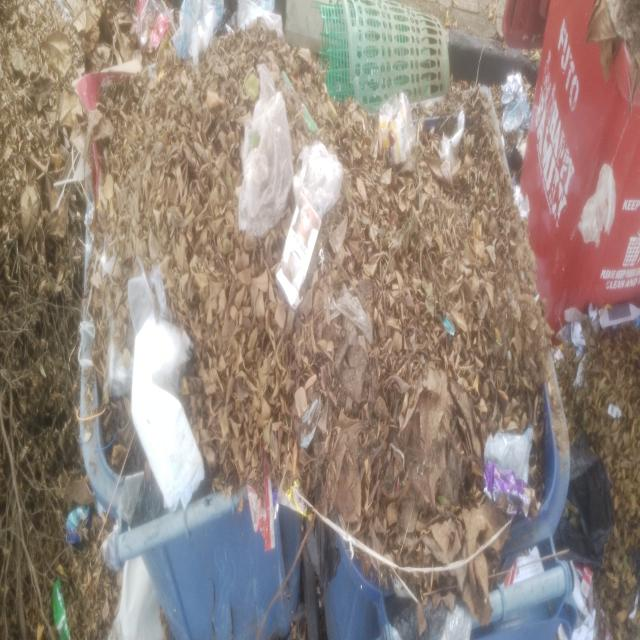full: (296, 8, 570, 567), (66, 17, 296, 581)
